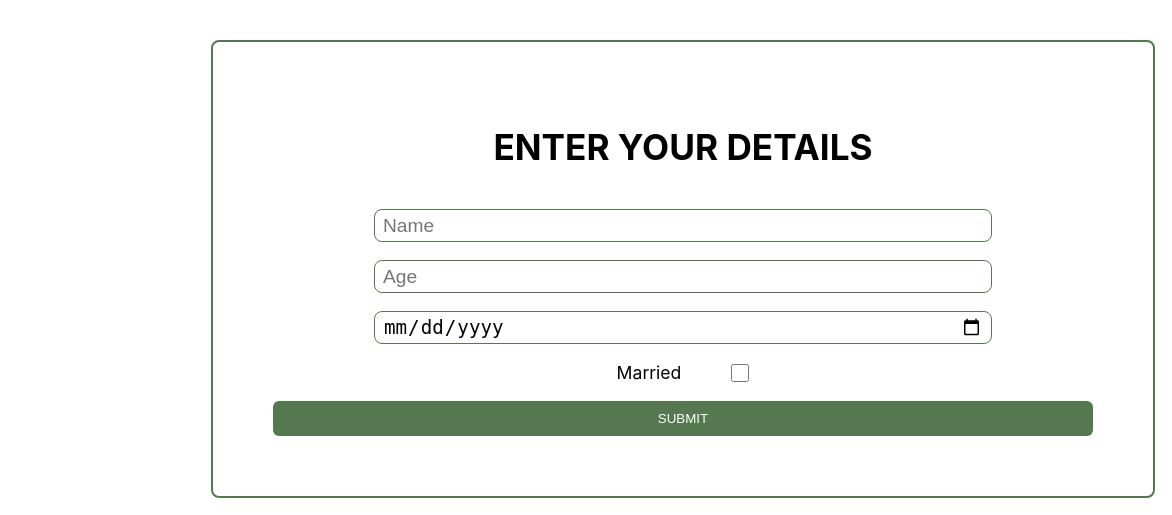
Test: CheckInfo Component › shows success popup on successful fetch
The width and height of the screenshot is (1172, 515).
Click the button "SUBMIT".
click(683, 419)  # box [273, 401, 1093, 436]
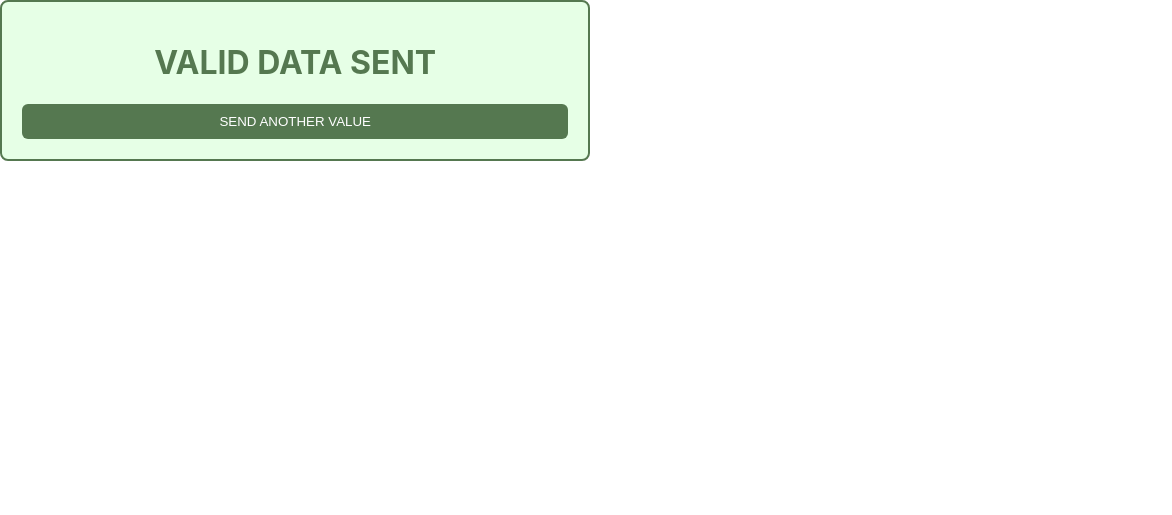
Expected: the heading "VALID DATA SENT" is shown, [154, 43, 436, 82]
